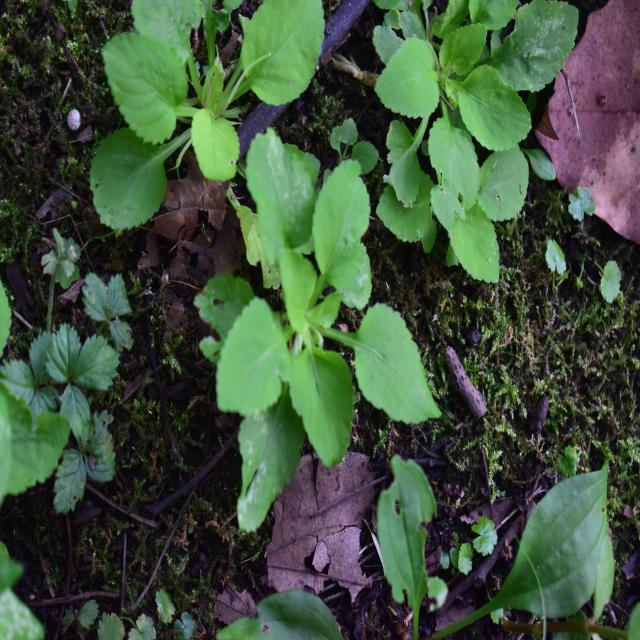Viola: (211, 132, 439, 464), (90, 0, 319, 207)
